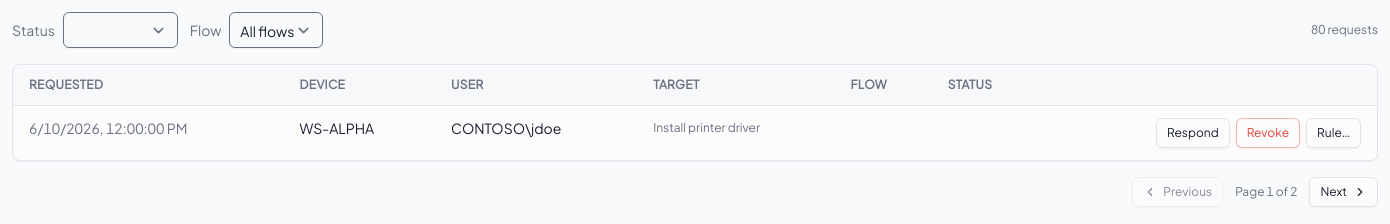
Test: PamRequestsTab › fetches page=2 on Next and updates the footer range
The image size is (1390, 224).
Expected: the text "Page 1 of 2" is shown, [1231,184,1301,200]
Click the button "Next".
click(1344, 192)  # box [1309,177,1378,207]
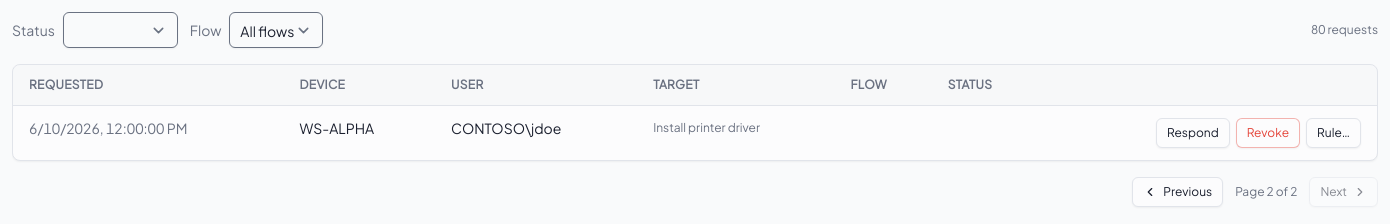
Expected: the text "Page 2 of 2" is shown, [1231,184,1301,200]
